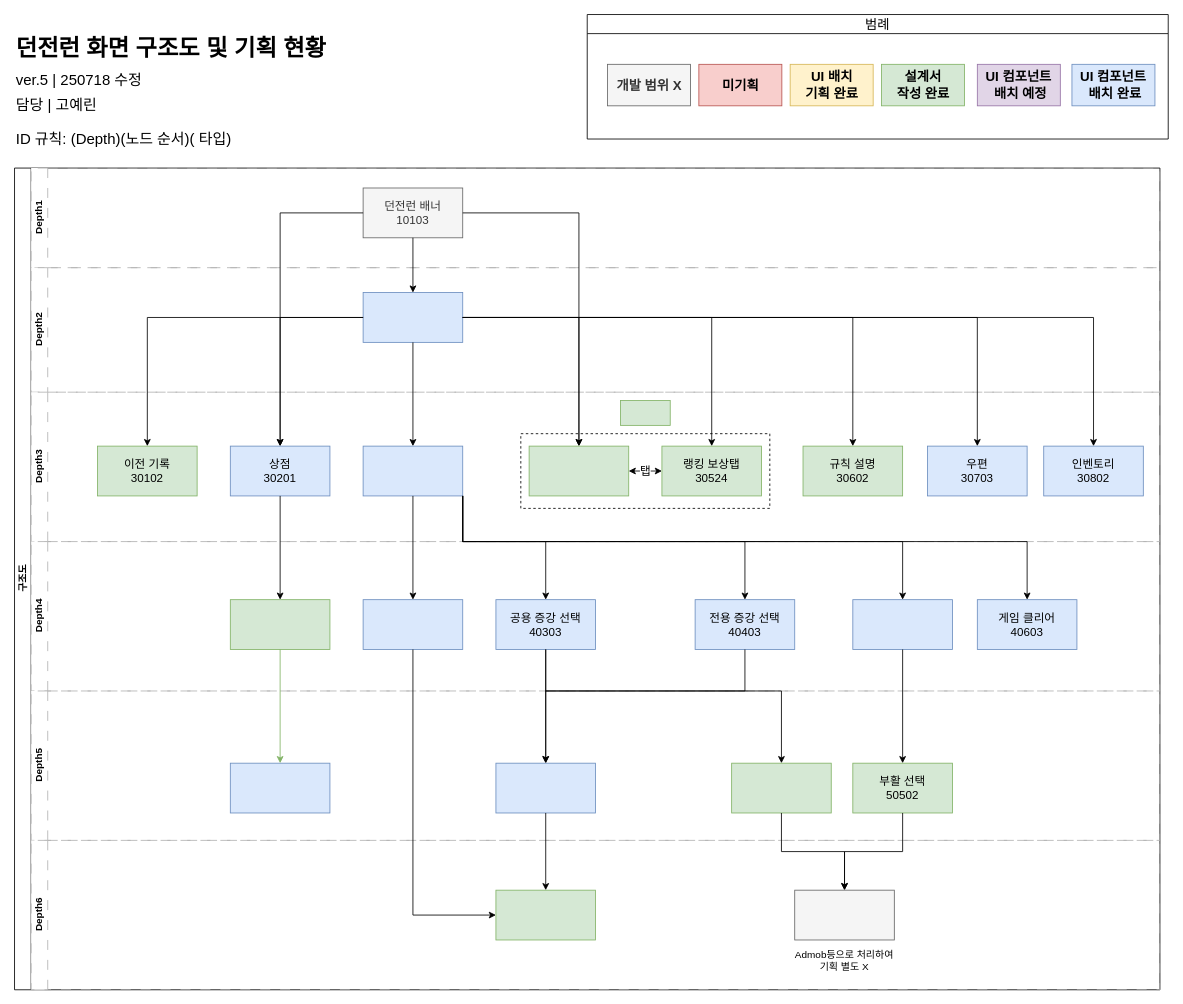
The diagram is 1183 pixels wide and 1004 high, and some of its shapes have lost their labels. The centre of each missing label's shape, as x and y in pixels:
"게임 오버 40503" belongs at point (902, 624).
"게임 화면 30301" belongs at point (412, 470).
"광고 시청 60303" belongs at point (844, 914).
"구매 완료 50103" belongs at point (279, 787).
"던전런 로비 20101" belongs at point (412, 317).
"랭킹 30401" belongs at point (645, 412).
"랭킹탭 30514" belongs at point (578, 470).
"리롤 50402" belongs at point (781, 787).
"아이템 구매 40102" belongs at point (279, 624).
"일시 정지 40203" belongs at point (412, 624).
"증강 상세 정보 60105" belongs at point (545, 914).
"증강 확인 50203" belongs at point (545, 787).
